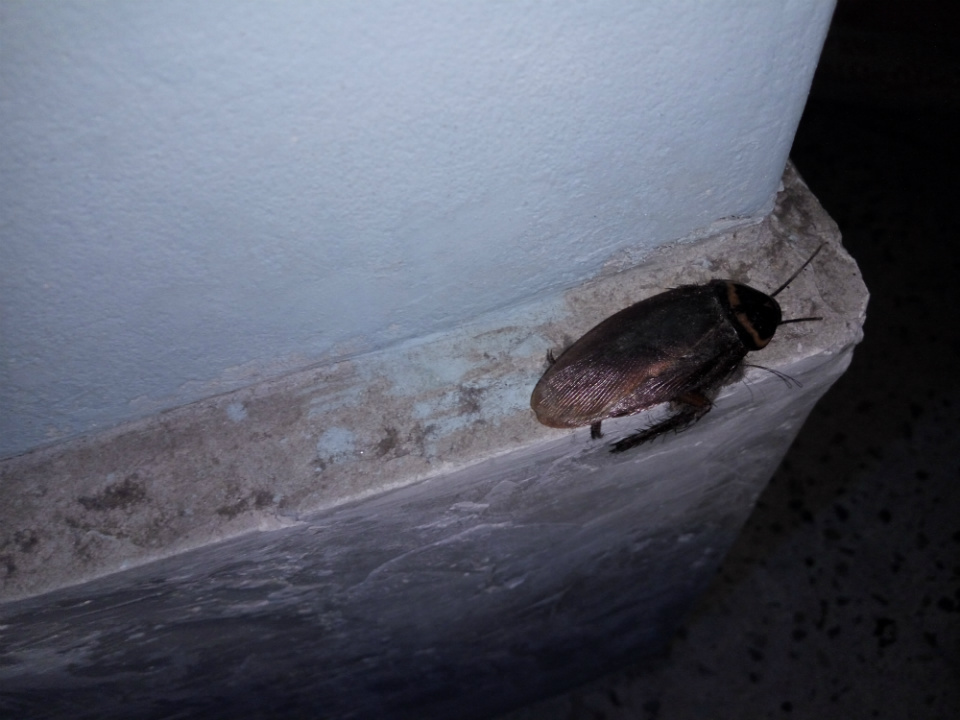cockroach: (436, 236, 905, 480)
